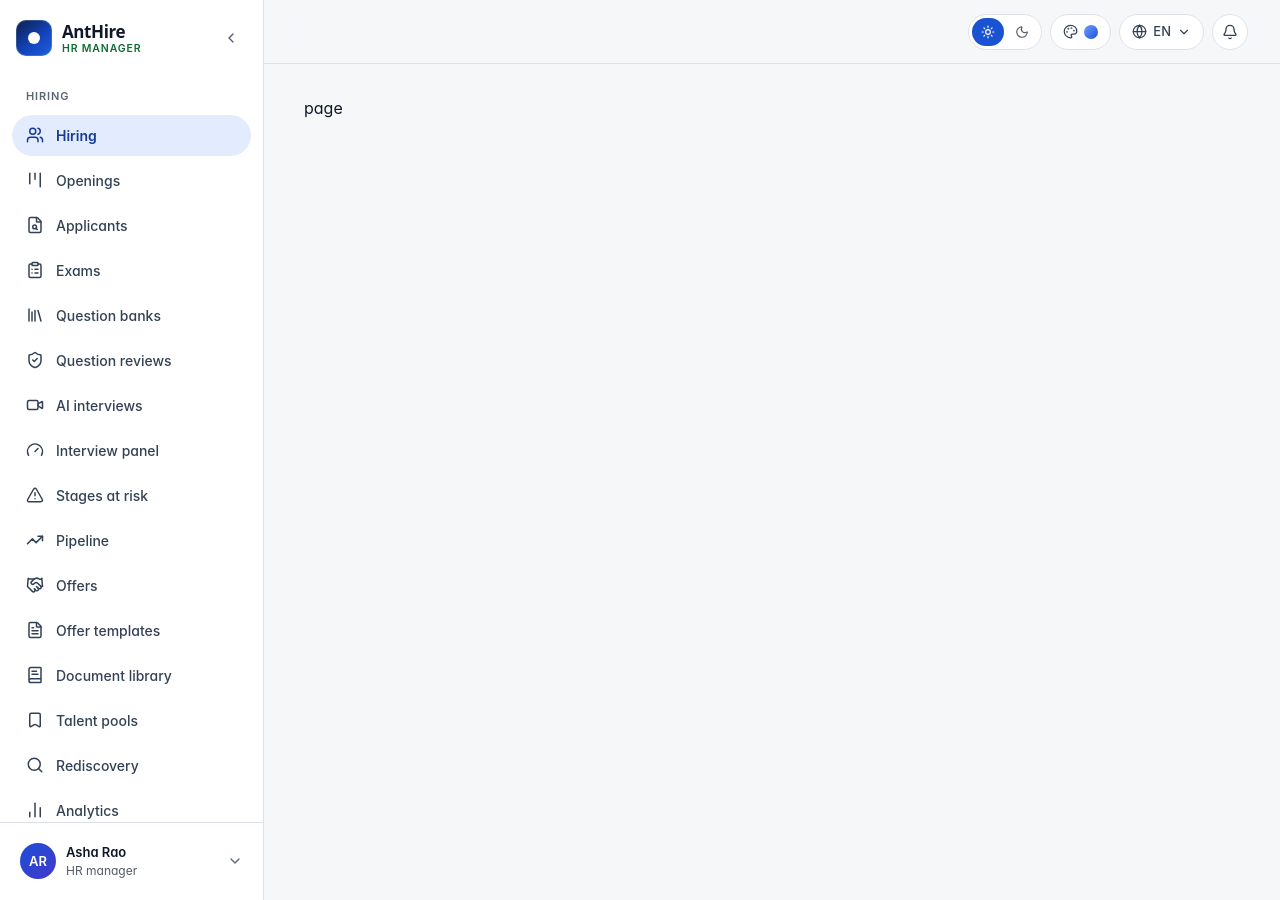
Test: AppShell - notifications popup (QA ANTHIRE-009) › closes when the person clicks the page outside it
Step 1. Click the button named "Notifications" → x=1230, y=32, box [1212, 14, 1248, 50]
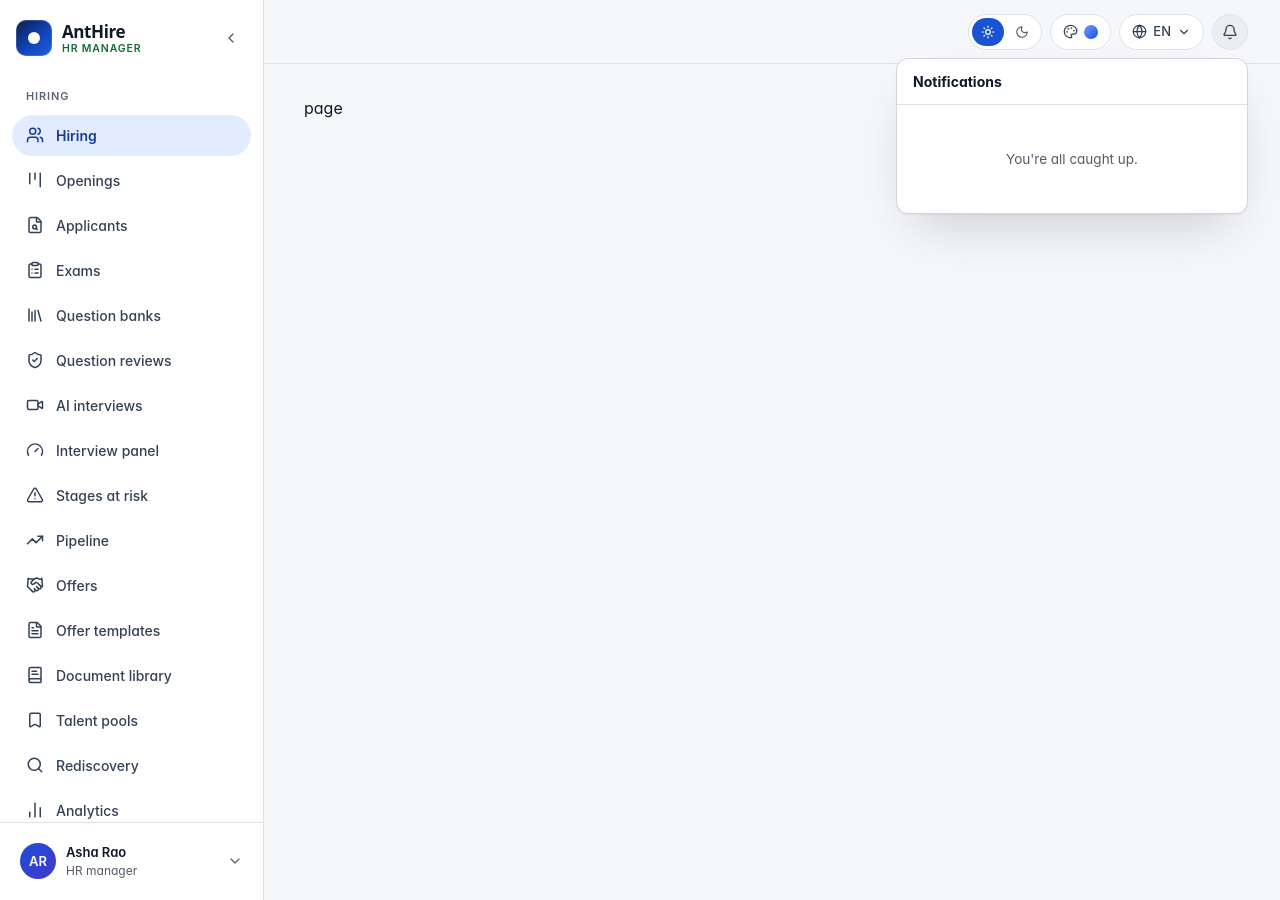
Expected: the dialog is shown, [896, 58, 1248, 214]
Step 2. Click the text "page" → x=323, y=108, box [304, 98, 343, 118]
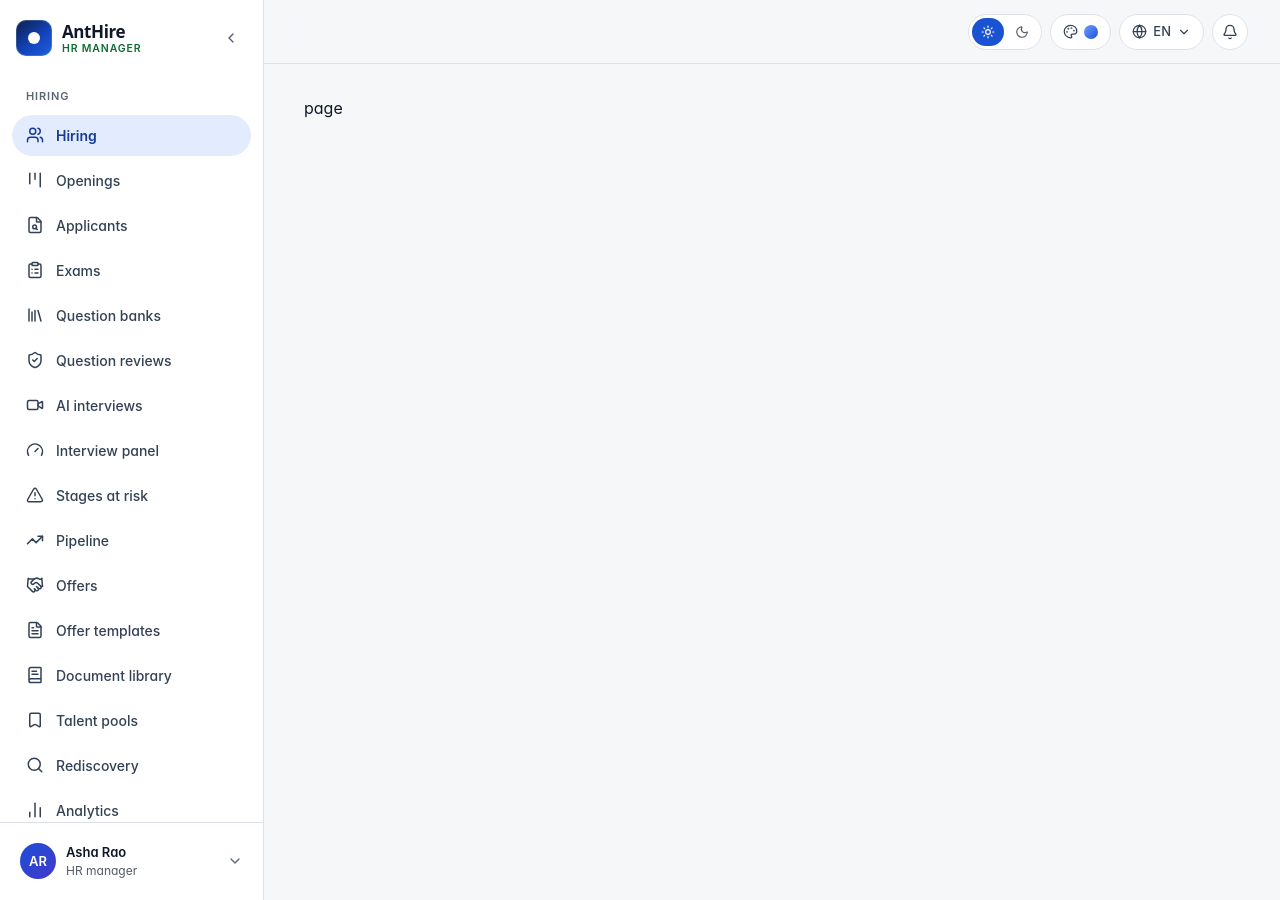
Expected: the dialog is gone
